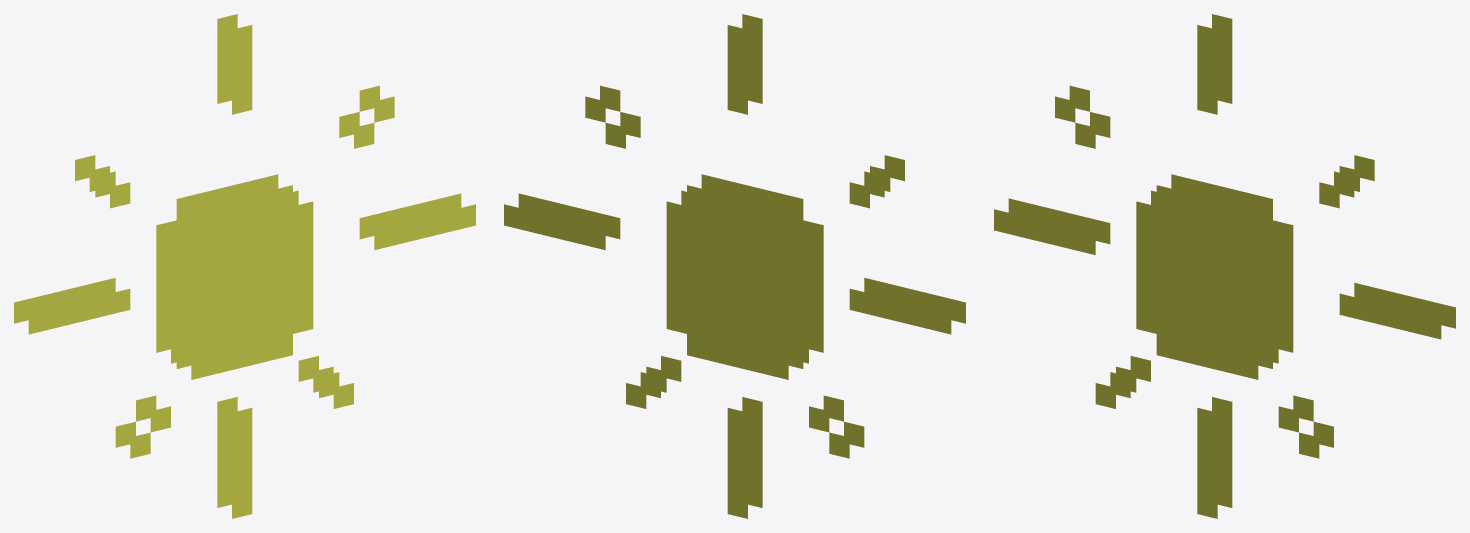
The model's file is sun-new.fbx.
The picture shows the model from 3 angles, left to right: view 1: azimuth 30°, elevation 25°; view 2: azimuth 150°, elevation 25°; view 3: azimuth 330°, elevation 25°; orthographic projection.
Visible parts, largest first — view 1: pCube1; view 2: pCube1; view 3: pCube1.
Boxes of the visible parts, x1,y1,x2,y2 form: pCube1: (14,14,475,518); pCube1: (504,14,965,518); pCube1: (994,14,1455,518).
Size of the model in its own units: 0.7333 by 0.7667 by 0.042.
